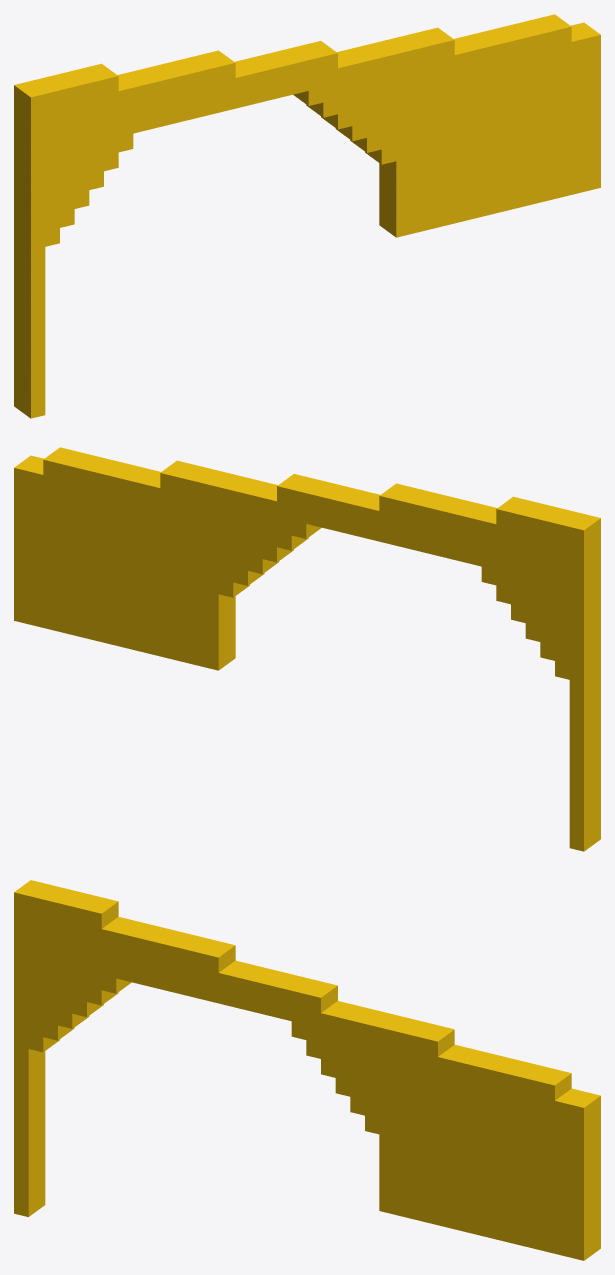
The model's file is sports_car_front_wing.glb.
3 renders of one model, top to bottom at view 1: azimuth 30°, elevation 25°; view 2: azimuth 150°, elevation 25°; view 3: azimuth 330°, elevation 25°, orthographic.
Parts seen in each view (by area): view 1: body:compound; view 2: body:compound; view 3: body:compound.
Part boxes in pixels (x1=…): body:compound: x1=14, y1=14, x2=600, y2=418; body:compound: x1=14, y1=447, x2=600, y2=851; body:compound: x1=14, y1=880, x2=600, y2=1260.
Bounding box in the file's own units: 1.22 × 0.6562 × 0.0625.
